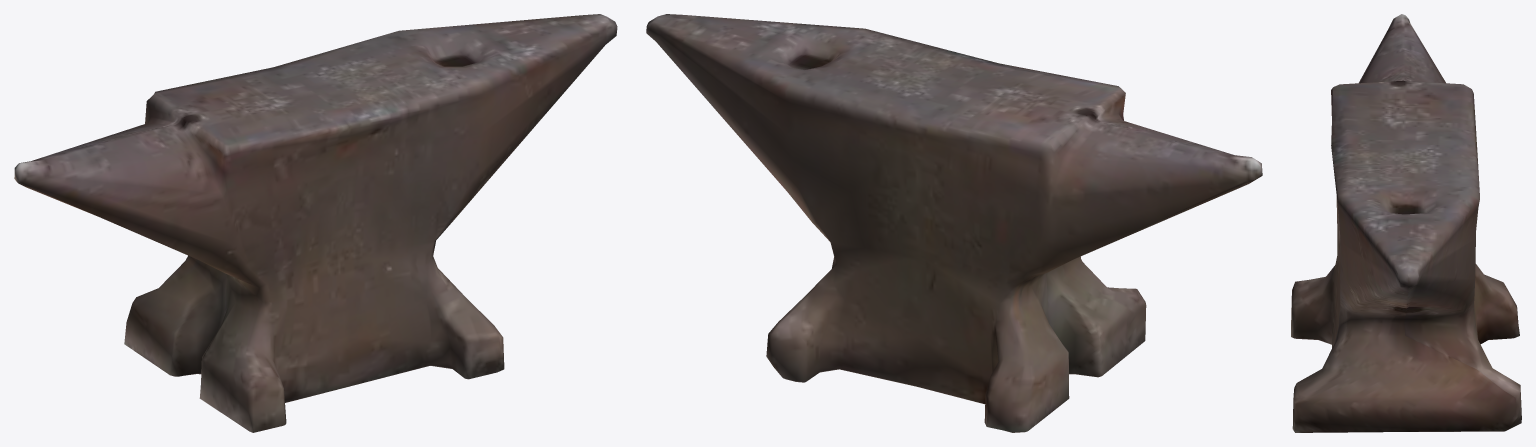
Rendered from obj_pbr_anvil.glb.
The picture shows the model from 3 angles, left to right: view 1: azimuth 30°, elevation 25°; view 2: azimuth 150°, elevation 25°; view 3: azimuth 270°, elevation 25°; orthographic projection. The views are drawn at different scales.
Visible parts, largest first — view 1: Object_6; view 2: Object_6; view 3: Object_6.
Boxes of the visible parts, left/top/right/bottom form: Object_6: left=14, top=14, right=617, bottom=432; Object_6: left=646, top=14, right=1262, bottom=432; Object_6: left=1291, top=14, right=1521, bottom=432.
Bounding box in the file's own units: 0.8114 × 0.35 × 0.3026.
1 material, 1 textured.
